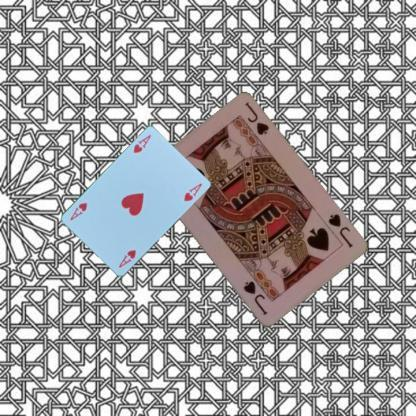Ah: (116, 247, 138, 270), (130, 132, 152, 154)
Js: (324, 211, 354, 249)
